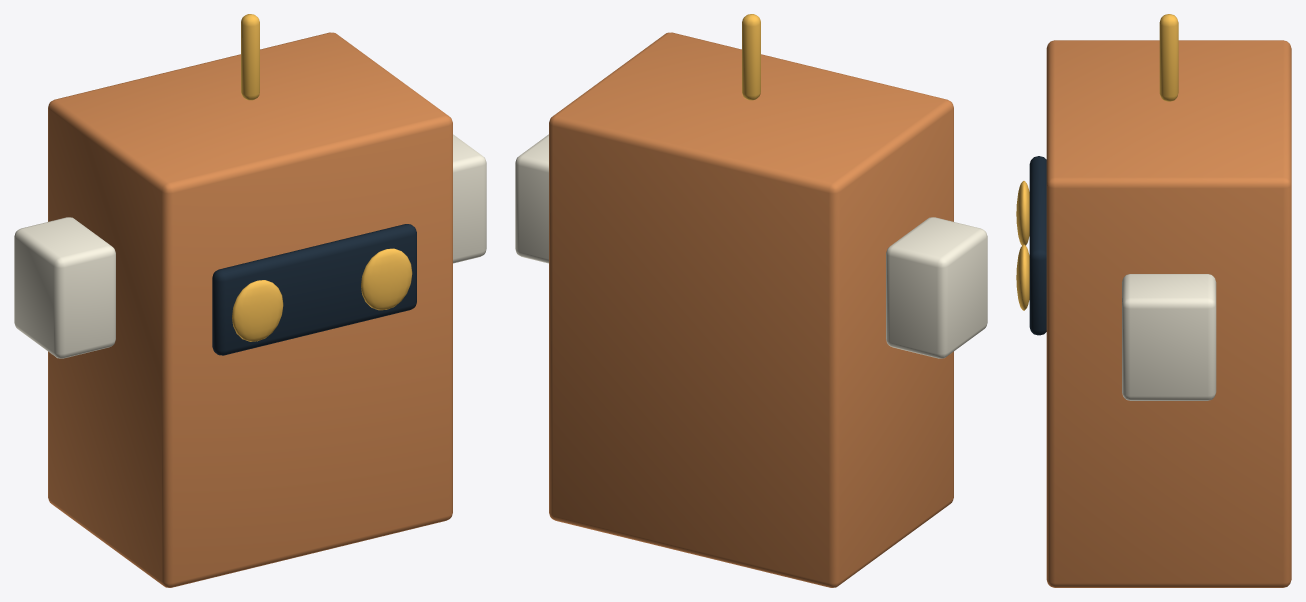
Rendered from workshop-landmark.glb.
The picture shows the model from 3 angles, left to right: view 1: azimuth 30°, elevation 25°; view 2: azimuth 150°, elevation 25°; view 3: azimuth 270°, elevation 25°; orthographic projection.
Parts seen in each view (by area): view 1: robot tower, visor, robot ear, robot ear.001, glowing eye, glowing eye.001, antenna; view 2: robot tower, robot ear, robot ear.001, antenna; view 3: robot tower, robot ear.001, visor, antenna, glowing eye.001, glowing eye.
Boxes of the visible parts, <box> form: robot tower: <box>48,32,452,587</box>; visor: <box>212,224,416,355</box>; robot ear: <box>14,217,115,358</box>; robot ear.001: <box>453,134,486,263</box>; glowing eye: <box>232,280,283,341</box>; glowing eye.001: <box>361,248,412,310</box>; antenna: <box>241,14,259,100</box>; robot tower: <box>549,32,953,587</box>; robot ear: <box>886,217,987,358</box>; robot ear.001: <box>515,134,548,263</box>; antenna: <box>742,14,760,100</box>; robot tower: <box>1046,40,1291,587</box>; robot ear.001: <box>1122,274,1216,400</box>; visor: <box>1029,156,1046,335</box>; antenna: <box>1159,14,1178,101</box>; glowing eye.001: <box>1016,244,1029,310</box>; glowing eye: <box>1016,181,1029,245</box>.
Bounding box in the file's own units: 2.68 × 2.95 × 1.46.
